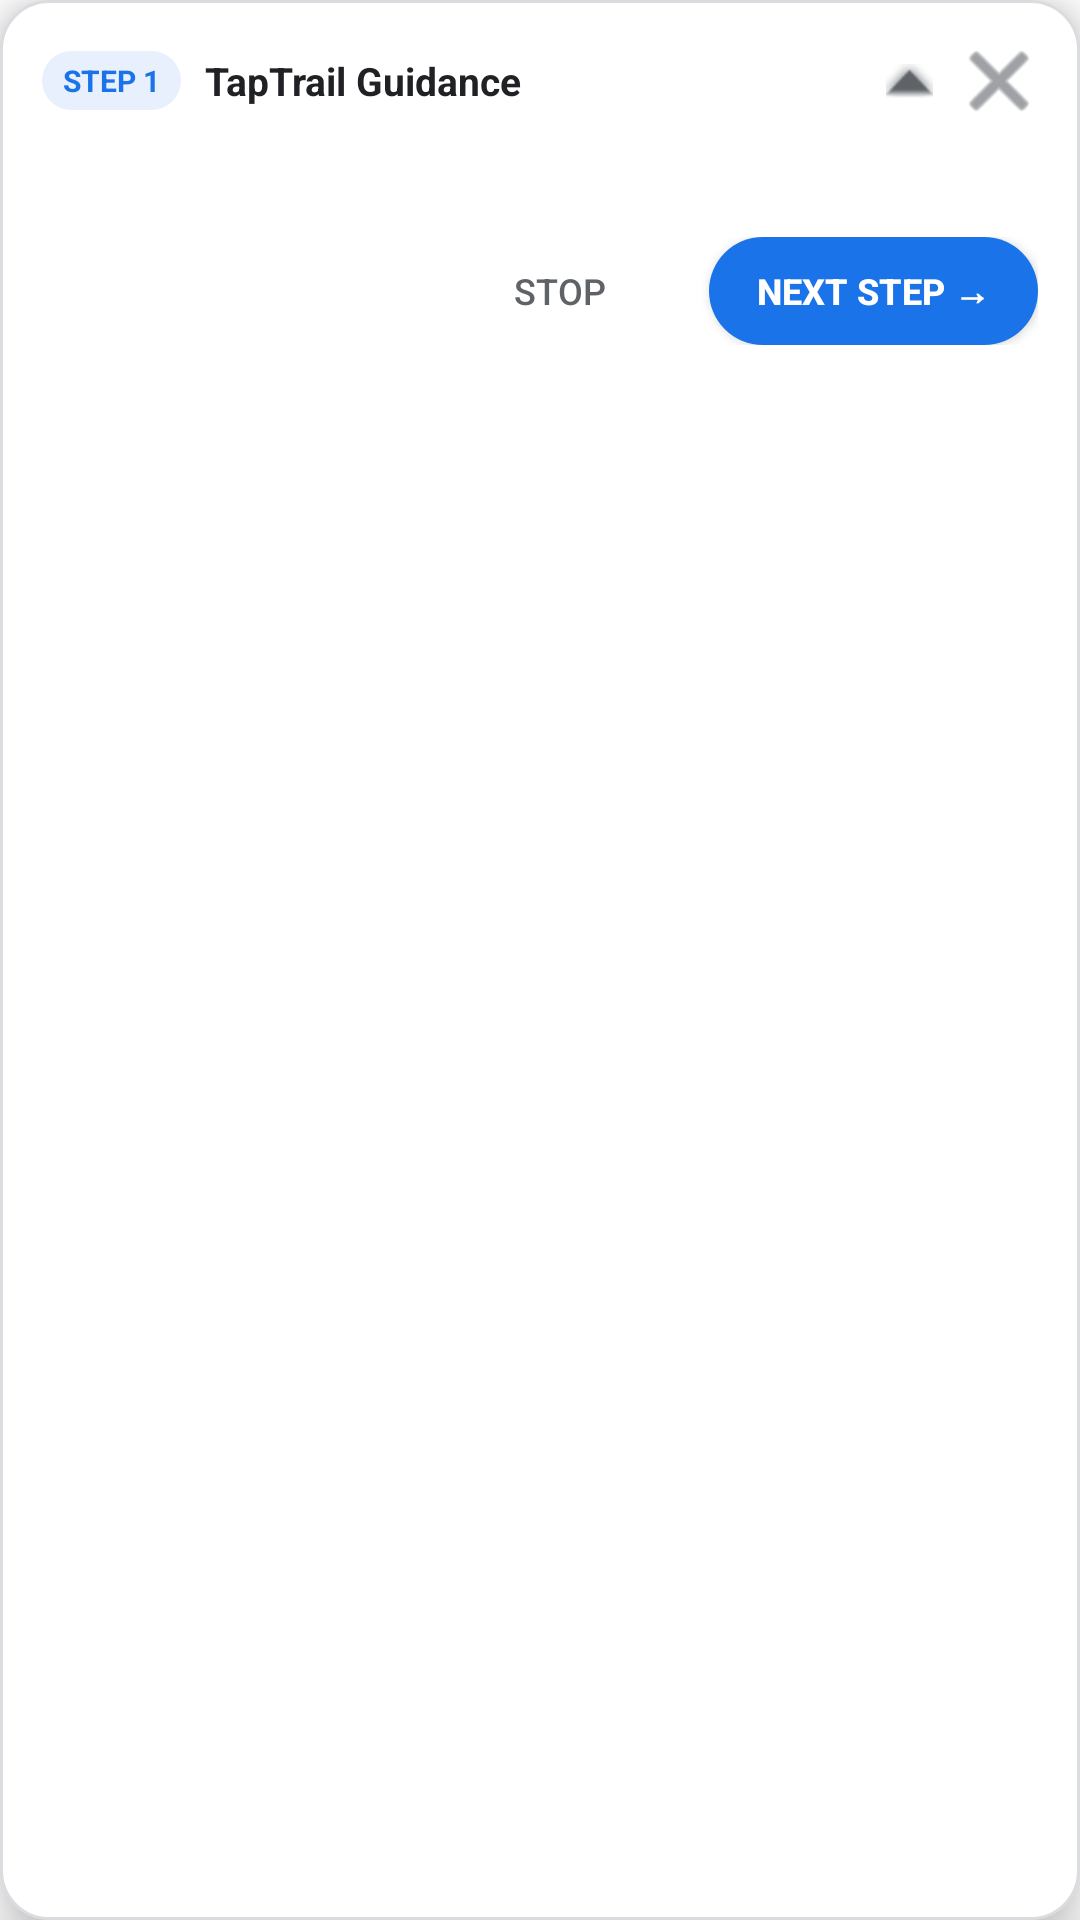

Icons on this 1080w x 1920h Android screen, each with its box as (x1, y1, x2, y2):
Close: (969, 51, 1029, 111)
Minimize: (886, 67, 933, 96)
